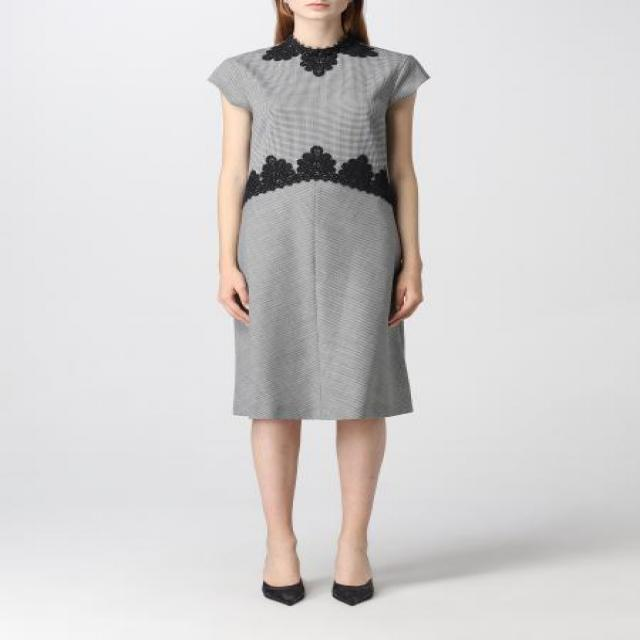clothes: (176, 38, 459, 446)
